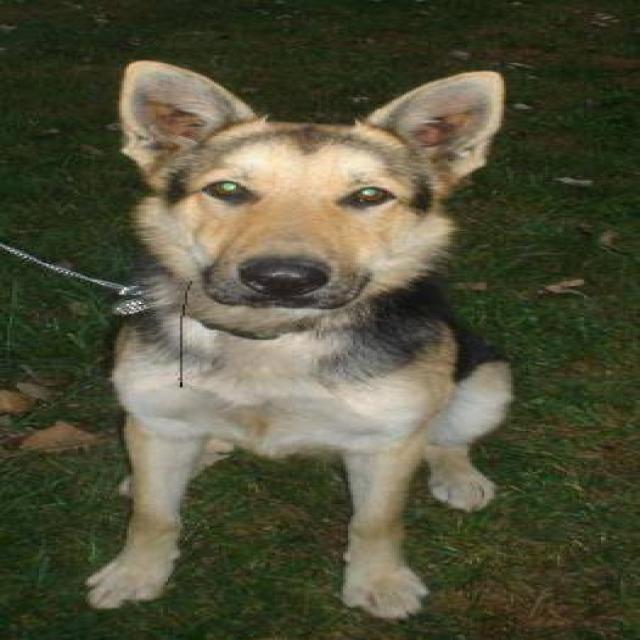dog: (80, 59, 516, 621)
